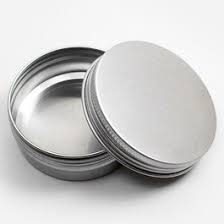Metal: (83, 39, 216, 179), (7, 46, 122, 182)
